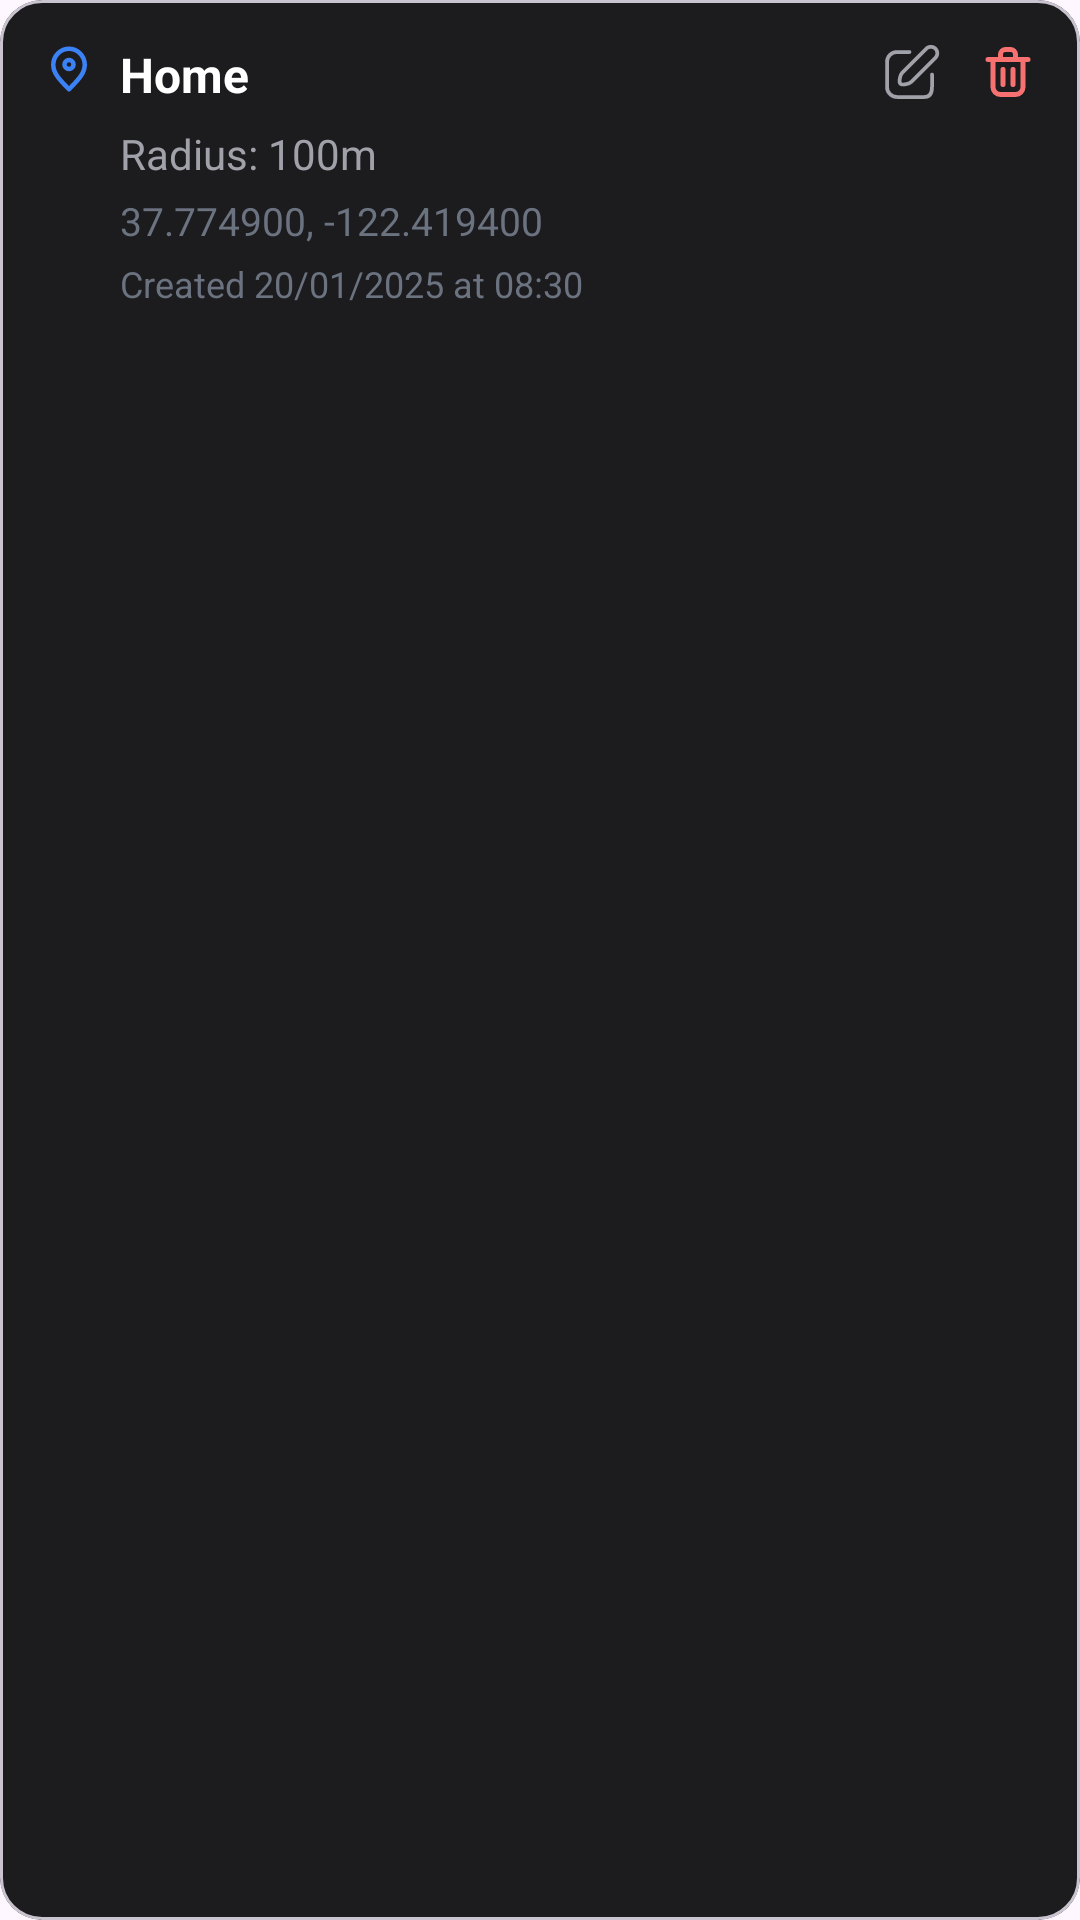

Screen size 1080px×1920px. Icon name, then its center in pixels as (x=x, y=y):
delete: (x=1008, y=72)
edit: (x=912, y=72)
location: (x=69, y=69)
